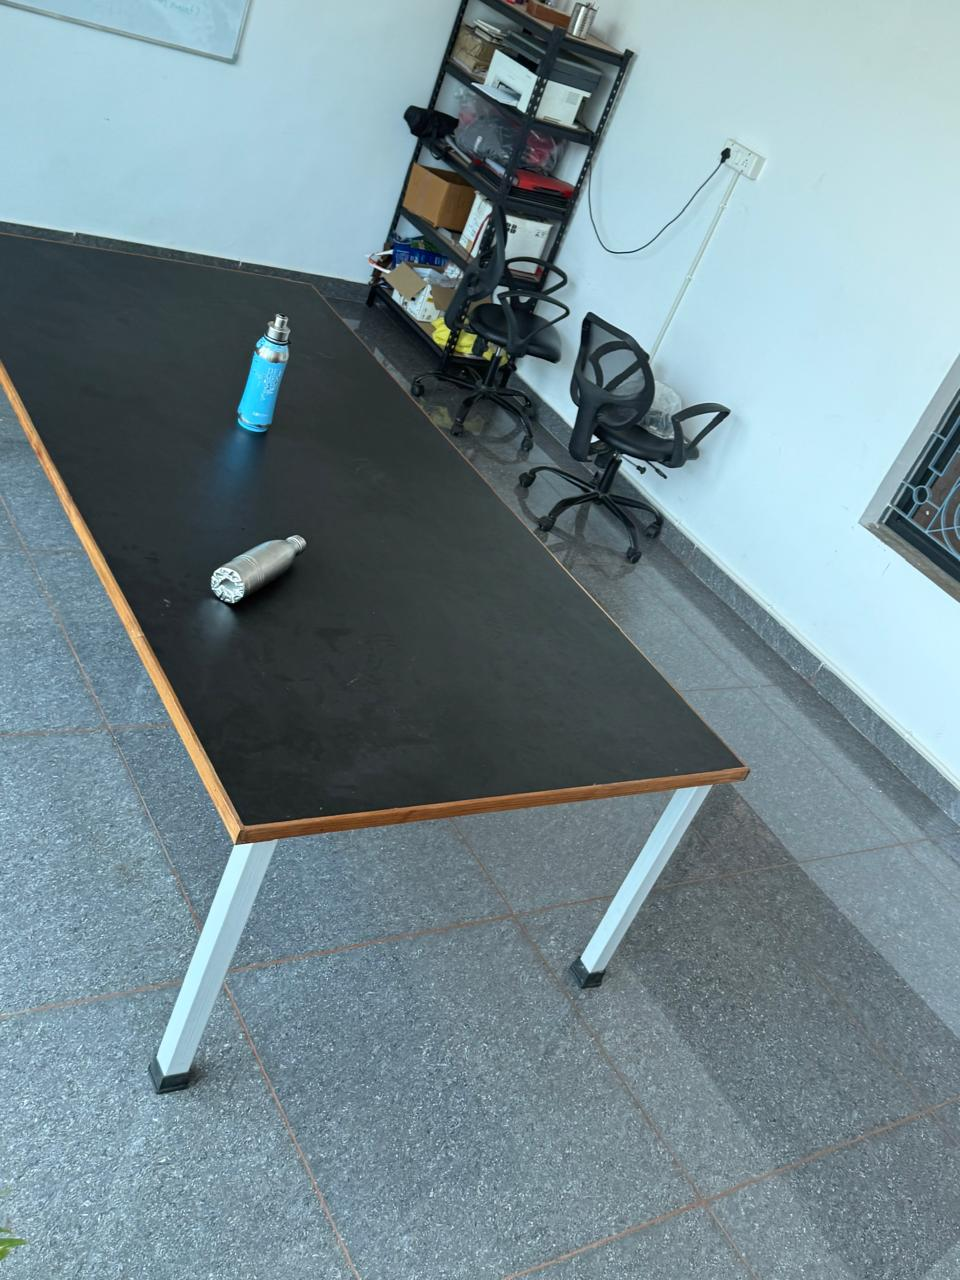bottle_on_table: (217, 302, 318, 471), (201, 527, 317, 613)
